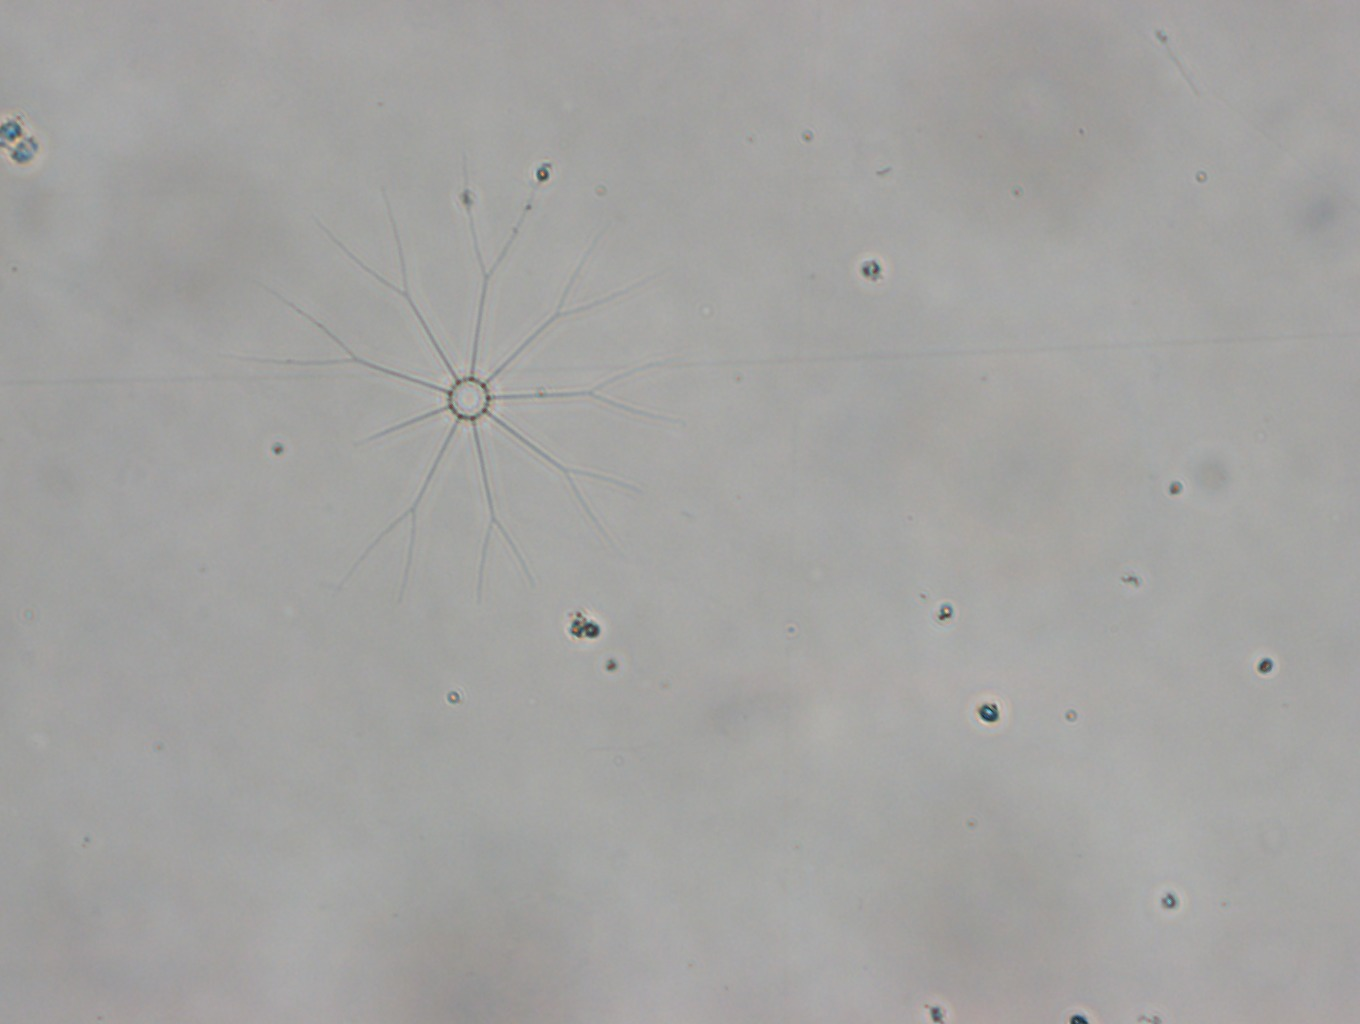bacteriastrum: (244, 153, 695, 613)
